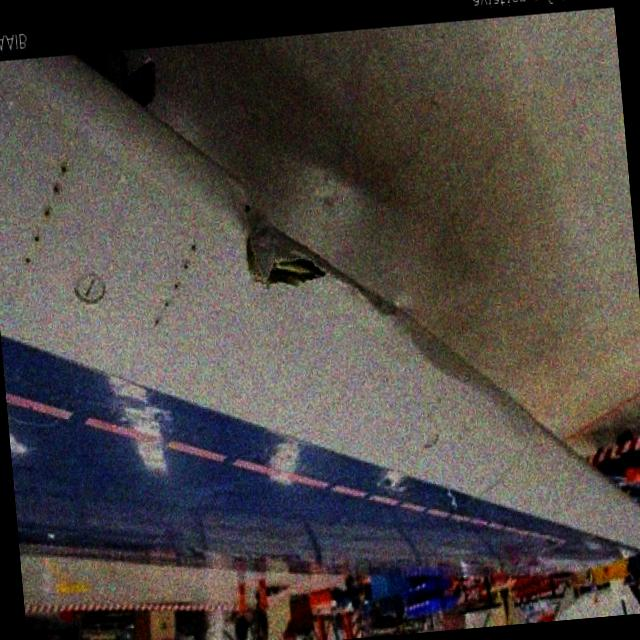crack: (247, 248, 329, 297)
dent: (410, 309, 497, 400), (350, 275, 398, 312)
